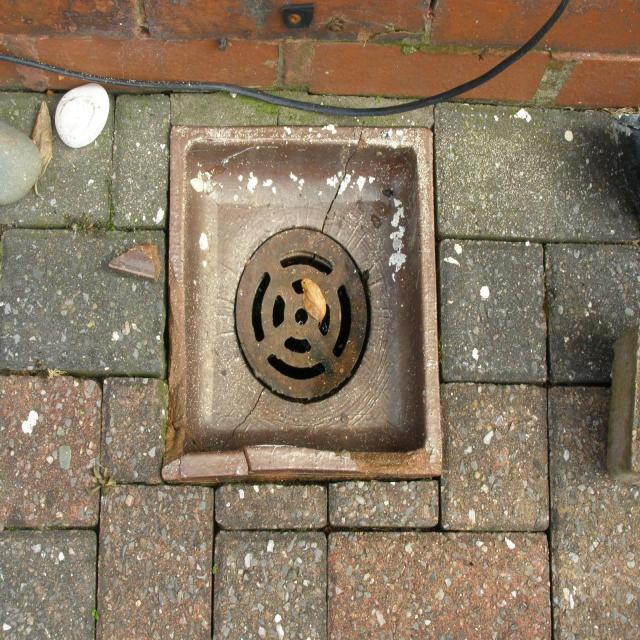crack: (281, 124, 419, 278), (152, 354, 308, 481)
crack_mold_damp_spalling_cor: (281, 124, 419, 278), (152, 354, 308, 481)
